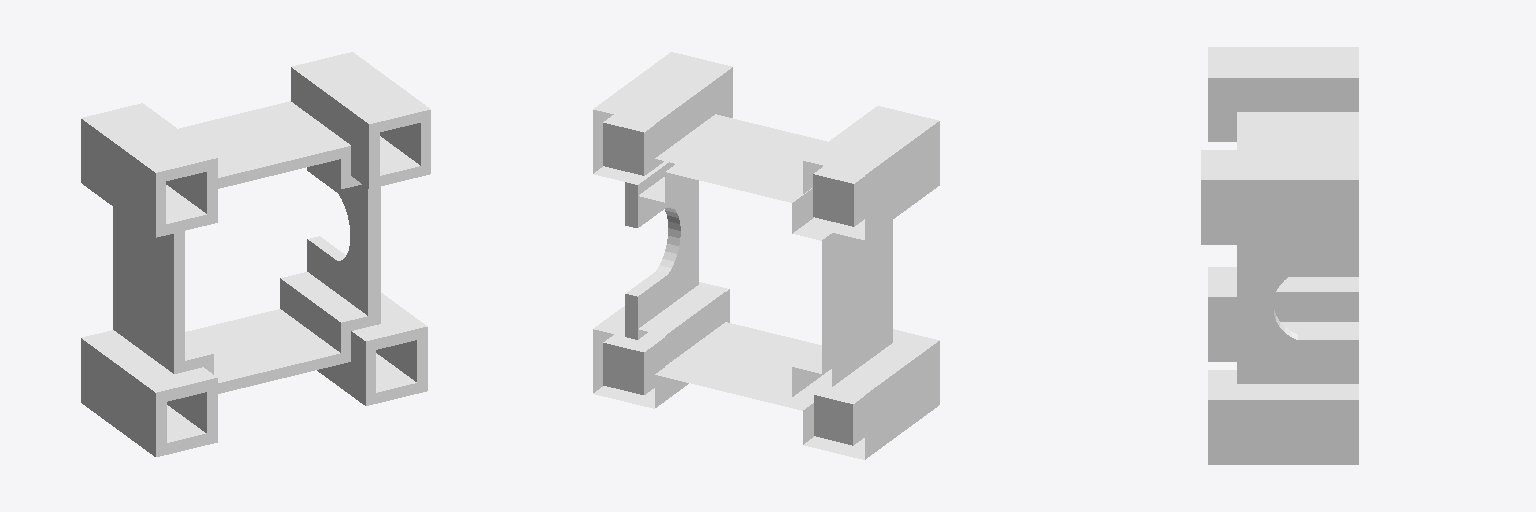
File: fortress2.obj
The picture shows the model from 3 angles: view 1: azimuth 30°, elevation 25°; view 2: azimuth 150°, elevation 25°; view 3: azimuth 270°, elevation 25°; orthographic projection.
Parts seen in each view (by area): view 1: Model; view 2: Model; view 3: Model.
Part boxes in pixels (x1,y1,x2,y2): Model: (81,52,430,456); Model: (593,52,939,459); Model: (1201,47,1358,464).
Bounding box in the file's own units: 105 × 105 × 52.8.